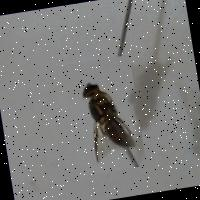Oriental-fruit-fly: (62, 54, 148, 175)
